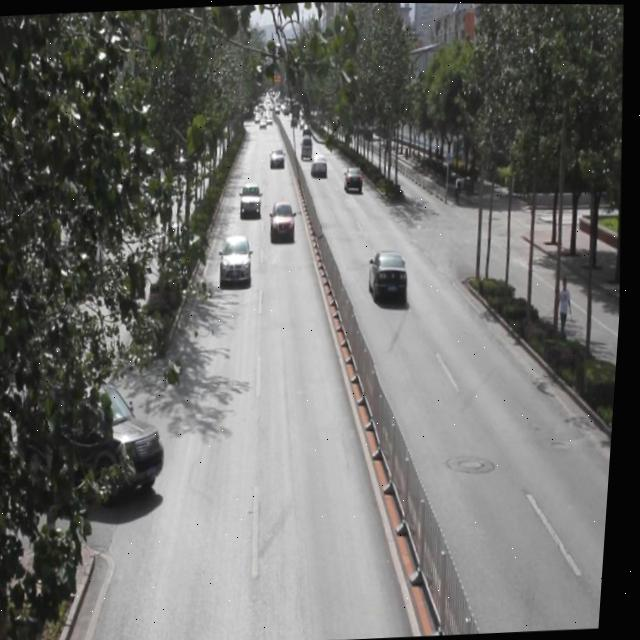car: (14, 367, 175, 511), (371, 249, 413, 306), (221, 232, 257, 285), (270, 199, 300, 243), (241, 181, 266, 218), (344, 163, 367, 195), (312, 153, 331, 180), (271, 146, 288, 170)
truck: (301, 134, 315, 163)
